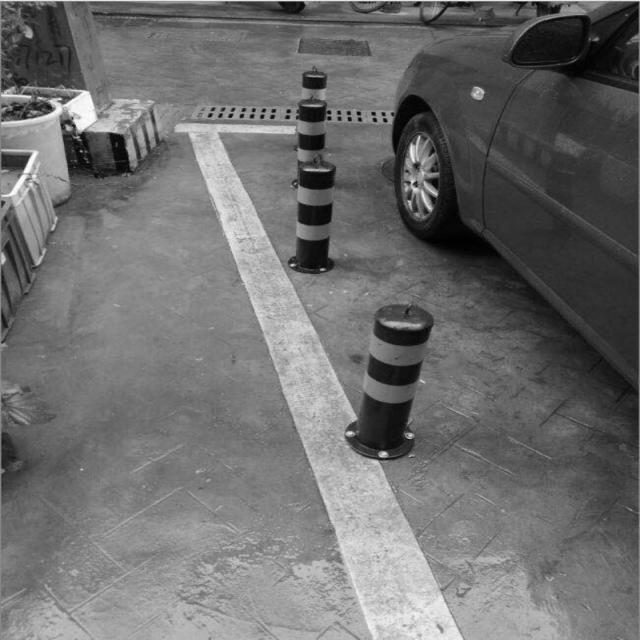car: (386, 1, 639, 384)
warning_column: (341, 304, 437, 458), (281, 158, 339, 271), (294, 98, 328, 161), (298, 66, 329, 97)
